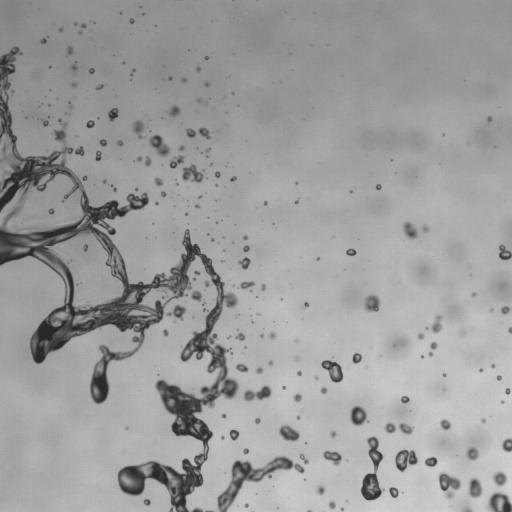droplet: (438, 471, 461, 500), (394, 449, 418, 472), (321, 360, 344, 383), (485, 492, 511, 511), (149, 134, 170, 157), (181, 163, 205, 183), (349, 405, 370, 426), (278, 424, 299, 441), (425, 313, 442, 333), (362, 294, 380, 312), (467, 477, 482, 498), (322, 450, 342, 465), (491, 470, 507, 487), (402, 221, 417, 239), (132, 120, 146, 139), (236, 280, 255, 292), (169, 155, 185, 169), (498, 244, 511, 260), (465, 446, 479, 460), (166, 104, 181, 117), (107, 108, 119, 121), (424, 456, 438, 467), (501, 437, 511, 452), (238, 257, 250, 269), (439, 418, 451, 430), (314, 483, 326, 495), (12, 56, 23, 67), (77, 63, 88, 74), (90, 73, 101, 84), (50, 106, 61, 117), (141, 128, 152, 139), (51, 140, 62, 151), (30, 146, 41, 157), (146, 146, 157, 157), (84, 147, 95, 158), (167, 147, 178, 158), (147, 165, 158, 176), (202, 167, 213, 178), (88, 196, 99, 207), (109, 216, 120, 227), (170, 255, 181, 266), (240, 269, 251, 280), (56, 281, 67, 292), (234, 288, 245, 299), (355, 294, 366, 305), (160, 315, 171, 326), (104, 322, 115, 333), (147, 323, 158, 334), (91, 326, 102, 337), (124, 327, 135, 338), (424, 330, 435, 341), (67, 336, 78, 347), (45, 350, 56, 361), (224, 357, 235, 368), (339, 358, 350, 369), (226, 368, 237, 379), (203, 375, 214, 386), (150, 389, 161, 400), (215, 394, 226, 405), (376, 430, 387, 441), (157, 455, 168, 466), (381, 455, 392, 466), (199, 464, 210, 475), (429, 465, 440, 476), (273, 467, 284, 478), (221, 474, 232, 485), (144, 477, 155, 488), (377, 478, 388, 489), (459, 480, 470, 491), (480, 488, 491, 499), (235, 490, 246, 501), (467, 496, 478, 507), (352, 352, 362, 364), (229, 428, 239, 440), (235, 363, 248, 372), (389, 486, 398, 498), (234, 332, 245, 341), (154, 177, 164, 186), (293, 392, 302, 402), (48, 206, 56, 217), (86, 120, 95, 129), (66, 54, 75, 63), (68, 72, 77, 81), (40, 106, 49, 115), (125, 119, 134, 128), (10, 124, 19, 133), (162, 154, 171, 163), (174, 164, 183, 173), (73, 168, 82, 177), (220, 171, 229, 180), (117, 198, 126, 207), (3, 202, 12, 211), (126, 208, 135, 217), (412, 221, 421, 230), (397, 229, 406, 238), (127, 275, 136, 284), (142, 275, 151, 284), (251, 284, 260, 293), (175, 296, 184, 305), (163, 303, 172, 312), (220, 304, 229, 313), (29, 322, 38, 331), (196, 322, 205, 331), (202, 351, 211, 360), (107, 359, 116, 368), (212, 366, 221, 375), (105, 373, 114, 382), (83, 374, 92, 383), (499, 379, 508, 388), (179, 383, 188, 392), (252, 383, 261, 392), (269, 384, 278, 393), (235, 387, 244, 396), (106, 388, 115, 397), (285, 388, 294, 397), (194, 390, 203, 399), (167, 413, 176, 422), (290, 421, 299, 430), (184, 434, 193, 443), (238, 453, 247, 462), (416, 453, 425, 462), (290, 454, 299, 463), (241, 479, 250, 488), (310, 479, 319, 488), (496, 484, 505, 493), (380, 489, 389, 498), (321, 492, 330, 501), (209, 500, 218, 509), (500, 306, 510, 314), (66, 45, 73, 56), (94, 150, 101, 161), (144, 156, 151, 167), (345, 248, 356, 255), (421, 224, 429, 233), (300, 301, 309, 309), (268, 330, 276, 339), (400, 338, 408, 347), (327, 500, 335, 509), (70, 61, 77, 71), (82, 241, 89, 251), (505, 473, 511, 484), (140, 505, 151, 511), (226, 505, 237, 511), (458, 328, 466, 336), (255, 366, 263, 374), (329, 430, 337, 438), (99, 139, 107, 146), (242, 245, 250, 252), (417, 332, 424, 340), (320, 386, 327, 394), (401, 396, 409, 403), (0, 45, 5, 56), (0, 171, 5, 182), (0, 209, 5, 220), (133, 156, 142, 162), (160, 190, 167, 197), (143, 498, 150, 505), (6, 73, 13, 80), (172, 75, 179, 82), (164, 103, 171, 110), (162, 112, 169, 119), (174, 113, 181, 120), (141, 118, 148, 125), (54, 123, 61, 130), (63, 127, 70, 134), (130, 131, 137, 138), (1, 132, 8, 139), (194, 132, 201, 139), (161, 137, 168, 144), (98, 145, 105, 152), (20, 151, 27, 158), (182, 160, 189, 167), (64, 161, 71, 168), (156, 184, 163, 191), (135, 190, 142, 197), (155, 194, 162, 201), (188, 206, 195, 213), (415, 228, 422, 235), (407, 237, 414, 244), (244, 250, 251, 257), (239, 251, 246, 258), (24, 254, 31, 261), (4, 260, 11, 267), (164, 270, 171, 277), (222, 286, 229, 293), (370, 288, 377, 295), (57, 299, 64, 306), (358, 303, 365, 310), (494, 306, 501, 313), (368, 309, 375, 316), (439, 318, 446, 325), (426, 319, 433, 326), (271, 325, 278, 332), (438, 328, 445, 335), (186, 332, 193, 339), (214, 337, 221, 344), (221, 341, 228, 348), (62, 342, 69, 349), (108, 345, 115, 352), (95, 351, 102, 358), (223, 351, 230, 358), (26, 353, 33, 360), (121, 357, 128, 364), (261, 362, 268, 369), (483, 364, 490, 371), (247, 365, 254, 372), (321, 368, 328, 375), (151, 375, 158, 382), (166, 378, 173, 385), (205, 380, 212, 387), (86, 396, 93, 403), (251, 396, 258, 403), (358, 401, 365, 408), (200, 403, 207, 410), (193, 411, 200, 418), (344, 411, 351, 418), (446, 415, 453, 422), (404, 418, 411, 425), (347, 421, 354, 428), (360, 421, 367, 428), (206, 423, 213, 430), (435, 424, 442, 431), (394, 427, 401, 434), (276, 434, 283, 441), (296, 436, 303, 443), (195, 439, 202, 446), (286, 439, 293, 446), (460, 447, 467, 454), (477, 450, 484, 457), (267, 453, 274, 460), (127, 459, 134, 466), (226, 460, 233, 467), (250, 462, 257, 469), (496, 465, 503, 472), (289, 466, 296, 473), (367, 466, 374, 473), (177, 467, 184, 474), (447, 470, 454, 477), (375, 472, 382, 479), (193, 485, 200, 492), (236, 489, 243, 496), (139, 491, 146, 498), (123, 492, 130, 499), (313, 492, 320, 499), (126, 493, 133, 500), (184, 493, 191, 500), (369, 498, 376, 505), (443, 498, 450, 505), (164, 501, 171, 508), (95, 84, 103, 90), (260, 283, 266, 291), (506, 243, 511, 252), (180, 77, 187, 83), (195, 97, 202, 103), (486, 116, 492, 123), (178, 145, 185, 151), (214, 171, 220, 178), (162, 329, 168, 336), (254, 417, 260, 424), (195, 65, 201, 71), (88, 68, 94, 74), (204, 81, 210, 87), (117, 140, 123, 146), (470, 291, 476, 297), (293, 337, 299, 343), (243, 448, 249, 454), (40, 38, 47, 43), (70, 82, 77, 87), (294, 197, 299, 204), (294, 355, 299, 362), (80, 23, 86, 28), (230, 176, 236, 181), (376, 184, 381, 190), (242, 235, 248, 240), (268, 360, 273, 366), (313, 375, 319, 380), (505, 388, 510, 394), (244, 502, 249, 508), (507, 431, 511, 438), (507, 496, 511, 503), (242, 507, 249, 511), (332, 507, 339, 511), (129, 18, 134, 23), (23, 114, 28, 119), (82, 175, 87, 180), (259, 333, 264, 338), (490, 363, 495, 368), (297, 370, 302, 375), (496, 375, 501, 380), (221, 413, 226, 418), (481, 418, 486, 423), (139, 7, 144, 12), (77, 19, 82, 24), (83, 19, 88, 24), (85, 23, 90, 28), (75, 24, 80, 29), (12, 41, 17, 46), (18, 46, 23, 51), (72, 47, 77, 52), (62, 49, 67, 54), (14, 53, 19, 58), (12, 60, 17, 65), (191, 64, 196, 69), (14, 66, 19, 71), (67, 68, 72, 73), (191, 68, 196, 73), (182, 72, 187, 77), (95, 80, 100, 85), (183, 81, 188, 86), (200, 84, 205, 89), (71, 86, 76, 91), (203, 86, 208, 91), (5, 88, 10, 93), (201, 96, 206, 101), (6, 101, 11, 106), (177, 103, 182, 108), (63, 106, 68, 111), (116, 110, 121, 115), (10, 114, 15, 119), (482, 114, 487, 119), (104, 115, 109, 120), (136, 115, 141, 120), (491, 115, 496, 120), (61, 116, 66, 121), (93, 118, 98, 123), (482, 118, 487, 123), (489, 120, 494, 125), (205, 124, 210, 129), (193, 127, 198, 132), (11, 129, 16, 134), (139, 130, 144, 135), (181, 130, 186, 135), (149, 131, 154, 136), (157, 131, 162, 136), (50, 133, 55, 138), (187, 136, 192, 141), (121, 137, 126, 142), (14, 140, 19, 145), (105, 142, 110, 147), (113, 143, 118, 148), (117, 145, 122, 150), (82, 146, 87, 151), (199, 146, 204, 151), (178, 150, 183, 155), (44, 151, 49, 156), (64, 152, 69, 157), (91, 152, 96, 157), (206, 157, 211, 162), (140, 158, 145, 163), (164, 162, 169, 167), (145, 165, 150, 170), (195, 166, 200, 171), (8, 167, 13, 172), (202, 172, 207, 177), (156, 173, 161, 178), (177, 176, 182, 181), (201, 177, 206, 182), (214, 177, 219, 182), (106, 178, 111, 183), (185, 179, 190, 184), (150, 180, 155, 185), (192, 180, 197, 185), (85, 191, 90, 196), (195, 198, 200, 203), (189, 202, 194, 207), (143, 204, 148, 209), (114, 214, 119, 219), (103, 217, 108, 222), (186, 224, 191, 229), (428, 225, 433, 230), (242, 230, 247, 235), (209, 232, 214, 237), (108, 234, 113, 239), (178, 235, 183, 240), (189, 239, 194, 244), (242, 240, 247, 245), (118, 248, 123, 253), (199, 248, 204, 253), (205, 252, 210, 257), (346, 254, 351, 259), (351, 254, 356, 259), (238, 255, 243, 260), (122, 257, 127, 262), (503, 258, 508, 263), (40, 262, 45, 267), (236, 263, 241, 268), (247, 263, 252, 268), (43, 264, 48, 269), (213, 267, 218, 272), (49, 269, 54, 274), (219, 276, 224, 281), (245, 277, 250, 282), (235, 281, 240, 286), (264, 286, 269, 291), (471, 286, 476, 291), (243, 287, 248, 292), (470, 296, 475, 301), (192, 298, 197, 303), (502, 301, 507, 306), (377, 304, 382, 309), (203, 310, 208, 315), (181, 312, 186, 317), (170, 314, 175, 319), (251, 314, 256, 319), (175, 317, 180, 322), (503, 326, 508, 331), (238, 327, 243, 332), (143, 328, 148, 333), (167, 329, 172, 334), (158, 330, 163, 335), (233, 330, 238, 335), (242, 330, 247, 335), (263, 331, 268, 336), (275, 333, 280, 338), (244, 334, 249, 339), (164, 335, 169, 340), (414, 337, 419, 342), (241, 339, 246, 344), (103, 341, 108, 346), (133, 341, 138, 346), (181, 341, 186, 346), (94, 343, 99, 348), (436, 343, 441, 348), (426, 346, 431, 351), (431, 348, 436, 353), (176, 349, 181, 354), (423, 352, 428, 357), (128, 355, 133, 360), (347, 355, 352, 360), (176, 357, 181, 362), (330, 357, 335, 362), (272, 359, 277, 364), (336, 359, 341, 364), (243, 361, 248, 366), (356, 361, 361, 366), (255, 362, 260, 367), (340, 367, 345, 372), (240, 370, 245, 375), (257, 372, 262, 377), (157, 375, 162, 380), (341, 376, 346, 381), (329, 380, 334, 385), (334, 381, 339, 386), (316, 385, 321, 390), (292, 389, 297, 394), (297, 389, 302, 394), (325, 390, 330, 395), (318, 392, 323, 397), (300, 395, 305, 400), (396, 395, 401, 400), (262, 396, 267, 401), (289, 396, 294, 401), (396, 398, 401, 403), (298, 399, 303, 404), (482, 413, 487, 418), (365, 414, 370, 419), (476, 415, 481, 420), (250, 416, 255, 421), (485, 417, 490, 422), (382, 419, 387, 424), (481, 422, 486, 427), (380, 424, 385, 429), (166, 425, 171, 430), (233, 425, 238, 430), (444, 428, 449, 433), (335, 429, 340, 434), (411, 429, 416, 434), (170, 431, 175, 436), (224, 432, 229, 437), (325, 432, 330, 437), (367, 432, 372, 437), (401, 432, 406, 437), (334, 434, 339, 439), (236, 435, 241, 440), (207, 438, 212, 443), (473, 444, 478, 449), (497, 444, 502, 449), (365, 445, 370, 450), (376, 446, 381, 451), (396, 446, 401, 451), (406, 446, 411, 451), (320, 447, 325, 452), (329, 447, 334, 452), (337, 449, 342, 454), (392, 450, 397, 455), (206, 452, 211, 457), (414, 452, 419, 457), (427, 452, 432, 457), (432, 452, 437, 457), (303, 453, 308, 458), (180, 454, 185, 459), (435, 455, 440, 460), (339, 458, 344, 463), (436, 458, 441, 463), (327, 459, 332, 464), (469, 459, 474, 464), (190, 460, 195, 465), (298, 460, 303, 465), (378, 460, 383, 465), (392, 465, 397, 470), (426, 465, 431, 470), (395, 468, 400, 473), (113, 469, 118, 474), (299, 472, 304, 477), (263, 474, 268, 479), (359, 474, 364, 479), (376, 476, 381, 481), (113, 479, 118, 484), (434, 479, 439, 484), (357, 482, 362, 487), (436, 486, 441, 491), (323, 489, 328, 494), (439, 489, 444, 494), (359, 495, 364, 500), (330, 496, 335, 501), (375, 496, 380, 501), (263, 200, 267, 206), (194, 204, 200, 208), (255, 312, 261, 316), (296, 414, 300, 420), (0, 190, 3, 197), (0, 217, 3, 224), (58, 27, 63, 31), (78, 30, 82, 35), (204, 56, 209, 60), (197, 195, 202, 199), (220, 259, 225, 263), (489, 308, 494, 312), (226, 335, 231, 339), (420, 354, 424, 359), (478, 368, 483, 372), (125, 425, 129, 430), (507, 322, 511, 327), (507, 332, 511, 337), (73, 22, 77, 26), (168, 76, 172, 80), (294, 181, 298, 185), (214, 183, 218, 187), (134, 187, 138, 191), (349, 189, 353, 193), (154, 201, 158, 205), (210, 237, 214, 241), (243, 345, 247, 349), (442, 373, 446, 377), (282, 386, 286, 390), (500, 400, 504, 404), (220, 435, 224, 439), (508, 257, 511, 262), (508, 304, 511, 309), (508, 309, 511, 314), (508, 450, 511, 455), (329, 508, 334, 511), (231, 91, 234, 95), (47, 115, 51, 118), (209, 162, 213, 165), (184, 212, 188, 215), (206, 232, 209, 236), (316, 257, 319, 261), (280, 297, 283, 301), (345, 458, 348, 462), (340, 507, 343, 511), (0, 144, 2, 149), (0, 221, 2, 226), (119, 11, 122, 14), (142, 12, 145, 15), (122, 61, 125, 64), (48, 65, 51, 68), (56, 97, 59, 100), (442, 133, 445, 136), (466, 142, 469, 145), (390, 158, 393, 161), (215, 221, 218, 224), (378, 354, 381, 357), (443, 388, 446, 391), (304, 441, 307, 444), (303, 478, 306, 481), (400, 491, 403, 494), (345, 499, 348, 502), (118, 8, 121, 11), (121, 11, 124, 14), (116, 12, 119, 15), (141, 15, 144, 18), (133, 17, 136, 20), (93, 23, 96, 26), (130, 23, 133, 26), (57, 25, 60, 28), (81, 27, 84, 30), (62, 28, 65, 31), (58, 31, 61, 34), (39, 36, 42, 39), (41, 42, 44, 45), (68, 42, 71, 45), (204, 52, 207, 55), (119, 59, 122, 62), (204, 59, 207, 62), (47, 62, 50, 65), (75, 63, 78, 66), (122, 63, 125, 66), (51, 64, 54, 67), (87, 65, 90, 68), (132, 65, 135, 68), (135, 68, 138, 71), (74, 69, 77, 72), (93, 70, 96, 73), (128, 70, 131, 73), (86, 71, 89, 74), (196, 71, 199, 74), (168, 73, 171, 76), (128, 75, 131, 78), (164, 76, 167, 79), (171, 76, 174, 79), (71, 79, 74, 82), (167, 79, 170, 82), (101, 81, 104, 84), (100, 87, 103, 90), (96, 89, 99, 92), (47, 100, 50, 103), (64, 100, 67, 103), (70, 100, 73, 103), (44, 103, 47, 106), (47, 106, 50, 109), (108, 107, 111, 110), (24, 112, 27, 115), (49, 113, 52, 116), (36, 114, 39, 117), (33, 115, 36, 118), (27, 116, 30, 119), (45, 117, 48, 120), (113, 117, 116, 120), (23, 119, 26, 122), (83, 122, 86, 125), (40, 123, 43, 126), (44, 125, 47, 128), (84, 126, 87, 129), (88, 127, 91, 130), (208, 132, 211, 135), (438, 132, 441, 135), (442, 135, 445, 138), (99, 136, 102, 139), (106, 140, 109, 143), (210, 145, 213, 148), (208, 149, 211, 152), (83, 151, 86, 154), (202, 151, 205, 154), (100, 153, 103, 156), (133, 156, 136, 159), (99, 158, 102, 161), (96, 160, 99, 163), (169, 167, 172, 170), (215, 168, 218, 171), (219, 171, 222, 174), (228, 175, 231, 178), (86, 177, 89, 180), (100, 177, 103, 180), (79, 178, 82, 181), (296, 178, 299, 181), (292, 179, 295, 182), (172, 180, 175, 183), (231, 180, 234, 183), (376, 180, 379, 183), (297, 182, 300, 185), (292, 183, 295, 186), (380, 183, 383, 186), (134, 184, 137, 187), (175, 185, 178, 188), (212, 185, 215, 188), (372, 185, 375, 188), (215, 186, 218, 189), (348, 186, 351, 189), (380, 186, 383, 189), (115, 188, 118, 191), (352, 188, 355, 191), (375, 189, 378, 192), (164, 190, 167, 193), (125, 192, 128, 195), (197, 192, 200, 195), (350, 192, 353, 195), (201, 193, 204, 196), (164, 195, 167, 198), (214, 196, 217, 199), (199, 197, 202, 200), (293, 197, 296, 200), (216, 199, 219, 202), (297, 199, 300, 202), (260, 200, 263, 203), (266, 201, 269, 204), (295, 203, 298, 206), (262, 205, 265, 208), (195, 207, 198, 210), (181, 212, 184, 215), (187, 212, 190, 215), (184, 215, 187, 218), (212, 219, 215, 222), (217, 219, 220, 222), (212, 222, 215, 225), (215, 223, 218, 226), (272, 224, 275, 227), (114, 227, 117, 230), (204, 230, 207, 233), (207, 235, 210, 238), (247, 235, 250, 238), (213, 239, 216, 242), (228, 240, 231, 243), (210, 241, 213, 244), (497, 242, 500, 245), (248, 244, 251, 247), (348, 245, 351, 248), (345, 246, 348, 249), (343, 249, 346, 252), (355, 249, 358, 252), (497, 249, 500, 252), (221, 251, 224, 254), (220, 256, 223, 259), (313, 256, 316, 259), (319, 256, 322, 259), (48, 267, 51, 270), (158, 271, 161, 274), (55, 273, 58, 276), (468, 291, 471, 294), (475, 293, 478, 296), (280, 294, 283, 297), (255, 297, 258, 300), (282, 298, 285, 301), (277, 299, 280, 302), (199, 300, 202, 303), (301, 300, 304, 303), (306, 300, 309, 303), (200, 305, 203, 308), (305, 306, 308, 309), (259, 310, 262, 313), (490, 311, 493, 314), (247, 319, 250, 322), (248, 322, 251, 325), (259, 330, 262, 333), (225, 333, 228, 336), (257, 336, 260, 339), (236, 338, 239, 341), (246, 344, 249, 347), (230, 348, 233, 351), (242, 348, 245, 351), (417, 354, 420, 357), (430, 355, 433, 358), (421, 357, 424, 360), (491, 360, 494, 363), (476, 366, 479, 369), (295, 368, 298, 371), (300, 369, 303, 372), (440, 370, 443, 373), (476, 370, 479, 373), (480, 371, 483, 374), (294, 372, 297, 375), (498, 372, 501, 375), (445, 373, 448, 376), (297, 375, 300, 378), (440, 375, 443, 378), (493, 377, 496, 380), (312, 378, 315, 381), (328, 378, 331, 381), (496, 379, 499, 382), (282, 382, 285, 385), (279, 386, 282, 389), (285, 386, 288, 389), (502, 388, 505, 391), (282, 389, 285, 392), (405, 393, 408, 396), (408, 398, 411, 401), (497, 400, 500, 403), (501, 403, 504, 406), (222, 410, 225, 413), (295, 412, 298, 415), (218, 413, 221, 416), (225, 414, 228, 417), (255, 414, 258, 417), (299, 415, 302, 418), (222, 417, 225, 420), (259, 419, 262, 422), (478, 420, 481, 423), (306, 440, 309, 443), (244, 445, 247, 448), (247, 451, 250, 454), (403, 468, 406, 471), (303, 480, 306, 483), (392, 484, 395, 487), (397, 491, 400, 494), (147, 496, 150, 499), (149, 499, 152, 502), (247, 501, 250, 504), (146, 504, 149, 507), (247, 505, 250, 508), (307, 506, 310, 509), (49, 88, 51, 91), (148, 130, 151, 132), (75, 135, 78, 137), (200, 152, 203, 154), (272, 222, 274, 225), (222, 249, 225, 251), (232, 284, 235, 286), (255, 296, 258, 298), (251, 320, 253, 323), (276, 506, 278, 509), (509, 390, 511, 393), (275, 509, 278, 511), (338, 509, 341, 511), (342, 509, 345, 511), (47, 35, 49, 37), (48, 104, 50, 106), (237, 104, 239, 106), (97, 117, 99, 119), (196, 147, 198, 149), (173, 205, 175, 207), (207, 216, 209, 218), (152, 222, 154, 224), (187, 222, 189, 224), (222, 236, 224, 238), (232, 241, 234, 243), (250, 314, 252, 316), (192, 316, 194, 318), (236, 328, 238, 330), (224, 472, 226, 474), (93, 22, 95, 23), (154, 25, 156, 26), (41, 103, 43, 104), (221, 219, 222, 221), (145, 237, 147, 238), (155, 237, 156, 239), (470, 274, 471, 276), (157, 374, 159, 375), (272, 486, 274, 487), (255, 493, 257, 494), (140, 6, 141, 7), (235, 224, 236, 225), (410, 410, 411, 411)
ligament: (360, 436, 384, 501), (242, 384, 271, 401), (384, 422, 414, 435), (185, 127, 211, 139), (102, 179, 116, 192), (428, 341, 437, 357), (64, 101, 73, 115), (299, 453, 308, 464), (129, 68, 135, 81), (205, 147, 211, 158), (460, 506, 473, 511), (174, 178, 179, 186), (508, 326, 511, 334), (235, 313, 239, 318), (306, 509, 313, 511), (393, 344, 396, 346)
